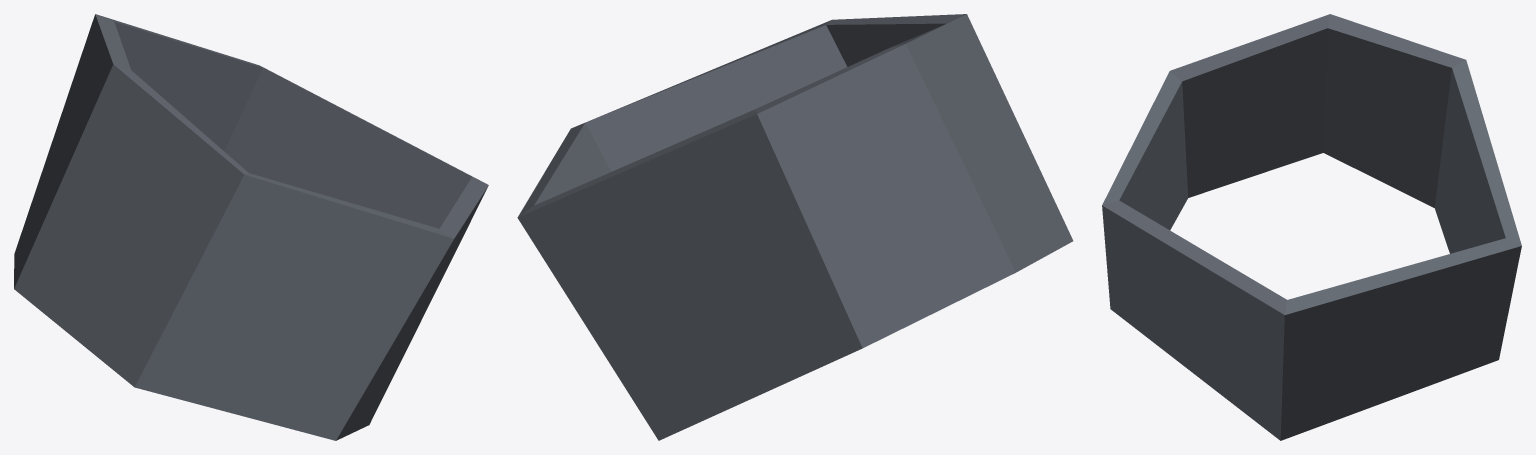
The model's file is AnteBrazoBarbaro.fbx.
The picture shows the model from 3 angles, left to right: view 1: azimuth 30°, elevation 25°; view 2: azimuth 150°, elevation 25°; view 3: azimuth 270°, elevation 25°; orthographic projection. The views are drawn at different scales.
Parts seen in each view (by area): view 1: M Slave; view 2: M Slave; view 3: M Slave.
Boxes of the visible parts, x1=… form: M Slave: x1=14, y1=14, x2=488, y2=440; M Slave: x1=517, y1=14, x2=1073, y2=440; M Slave: x1=1102, y1=14, x2=1521, y2=440.
Size of the model in its own units: 24.28 by 20.29 by 23.15.
Materials: 1 (1 with a texture image).
